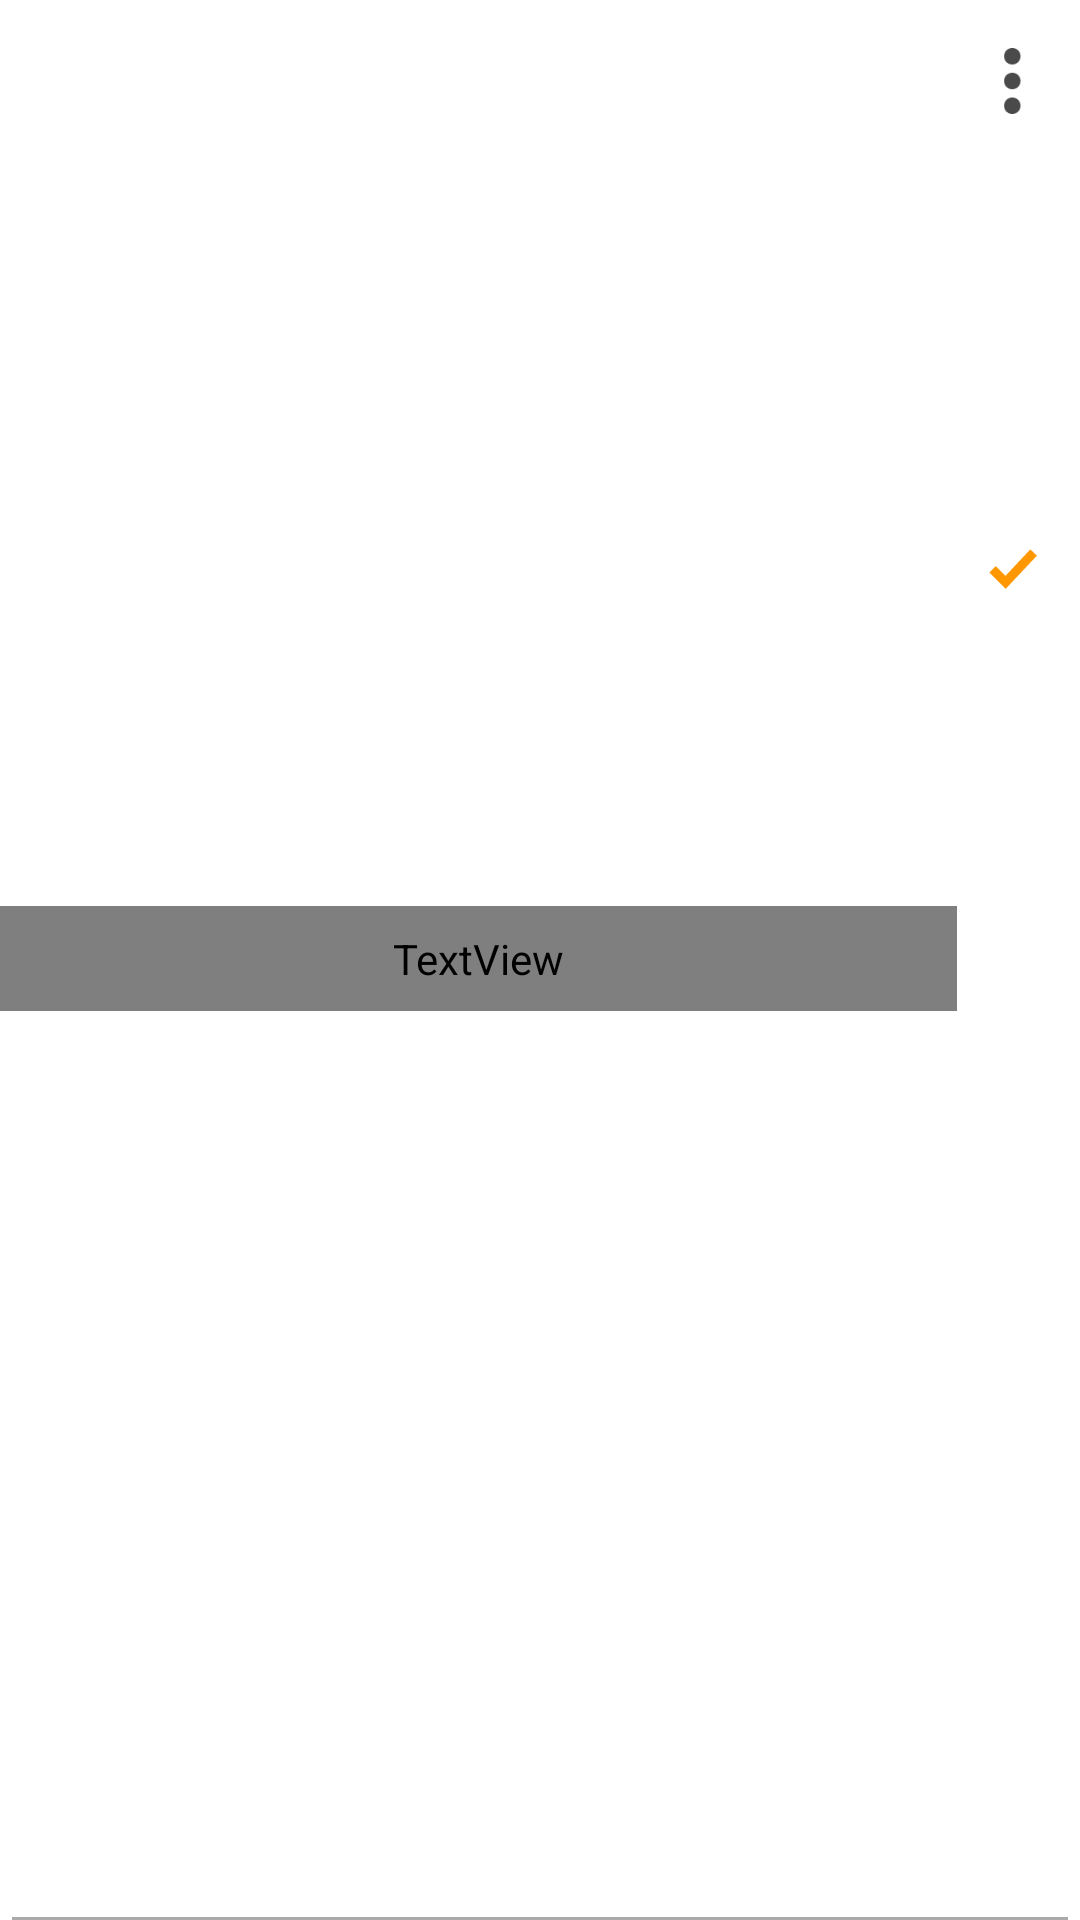

Locate icon controls on the screen. Image size 1080px×1920px, boxes as (x1, y1, x2, y2).
check: (989, 549, 1037, 589)
